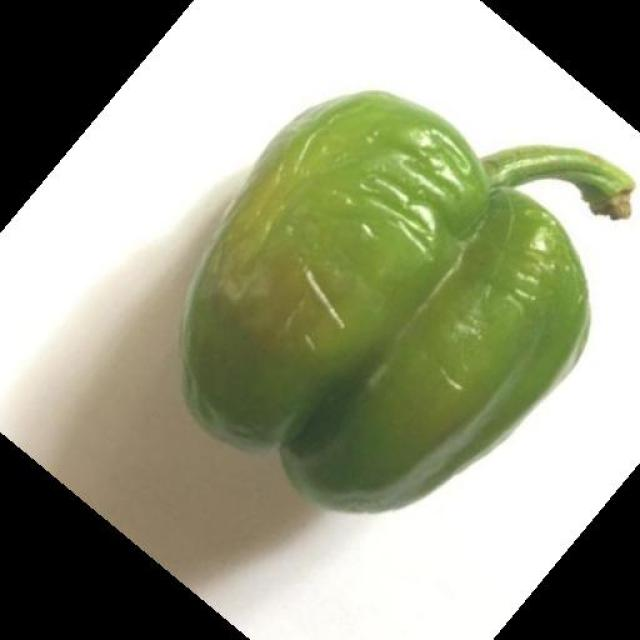Stale_Capsicum: (186, 81, 600, 466)
